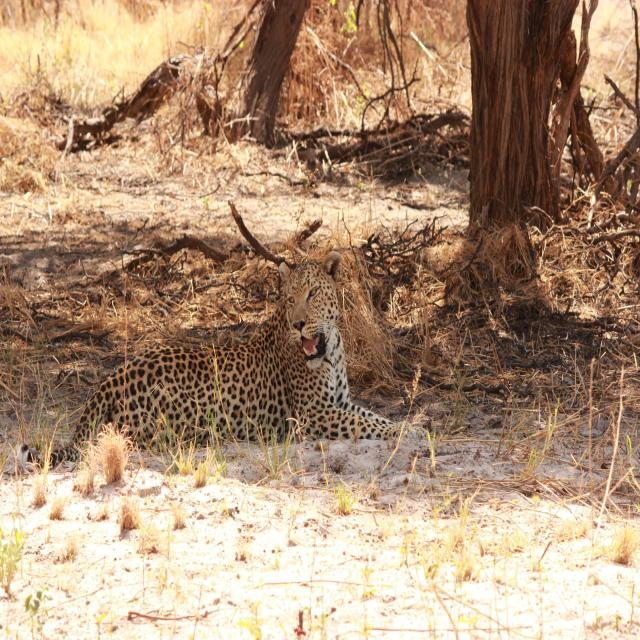Leopard: (20, 264, 438, 470)
